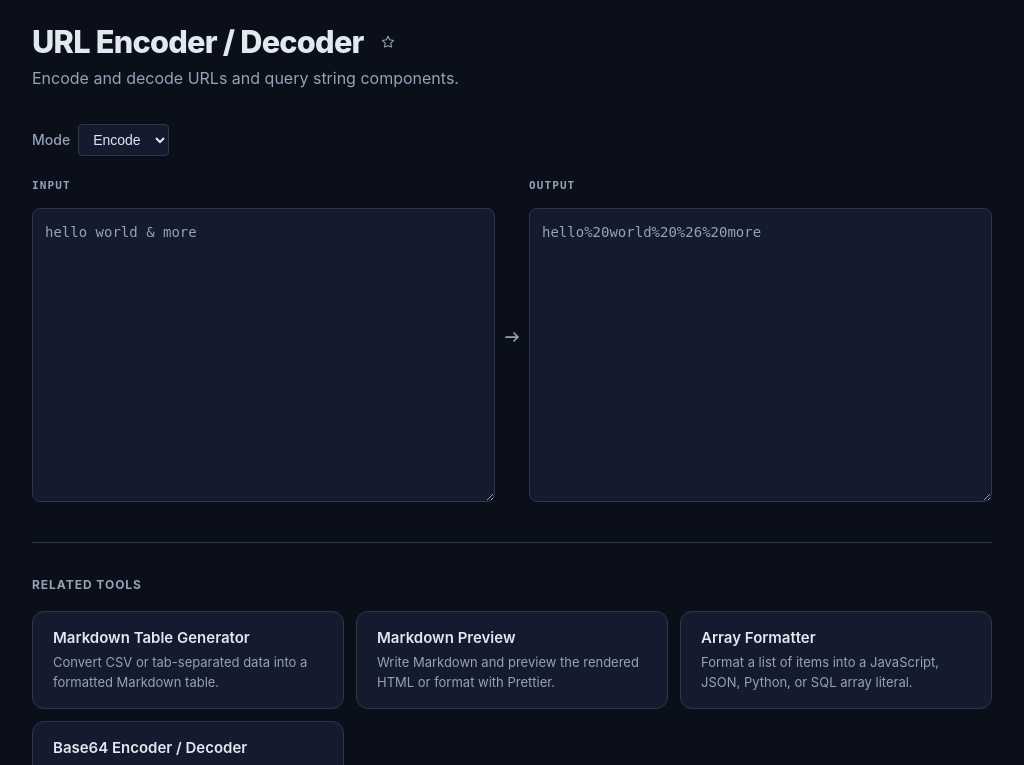
Test: UrlEncoder › decodes "hello%20world" to "hello world"
The image size is (1024, 765).
Select "Decode" in the dropdown labelled "Mode" at {"x": 124, "y": 140}, box [78,124,169,156]
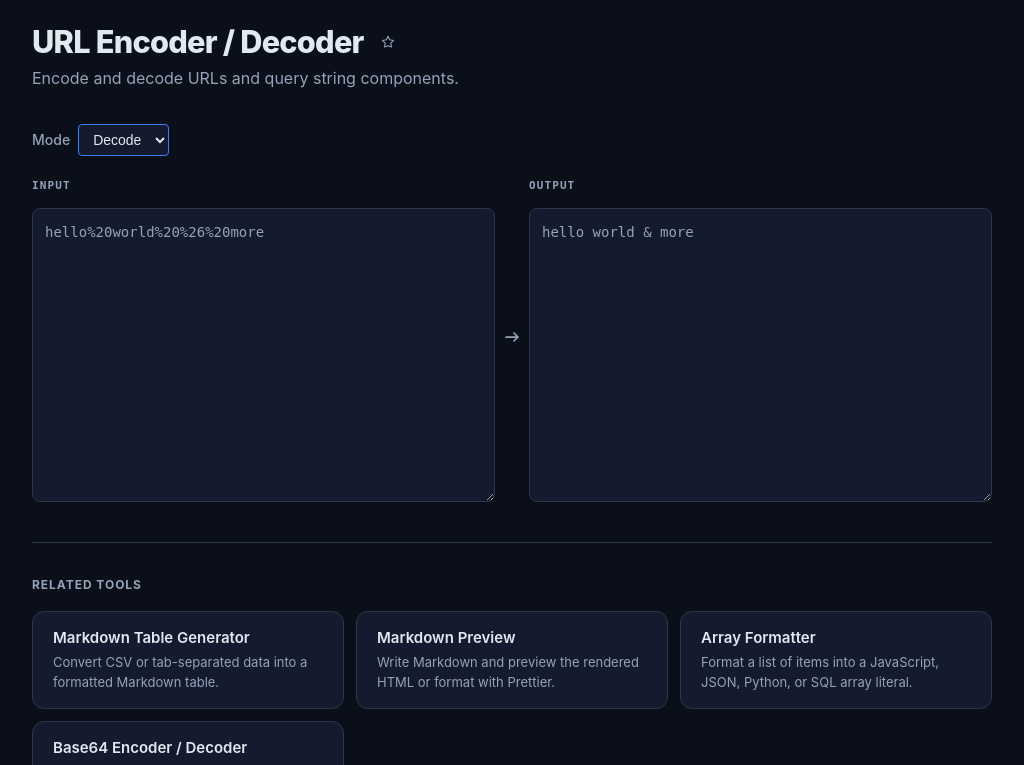
Type "hello%20world" into the text box named "input" at {"x": 264, "y": 355}, box [32,208,495,502]
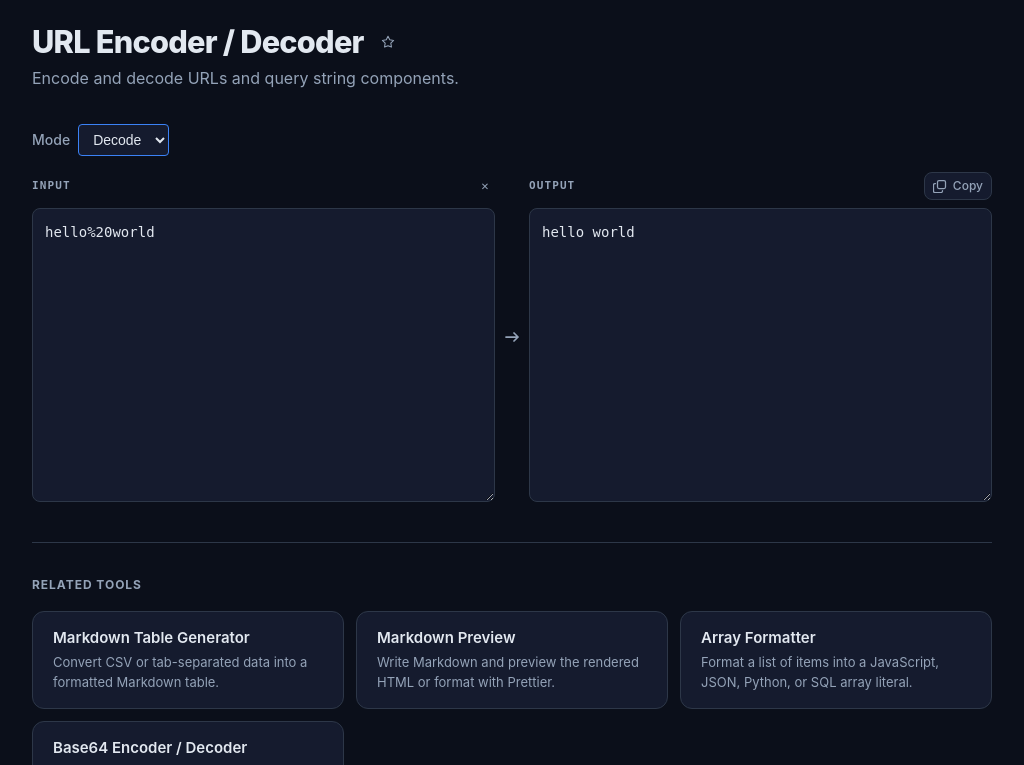
Expected: the text box named "output" holds "hello world", [529,208,992,502]
